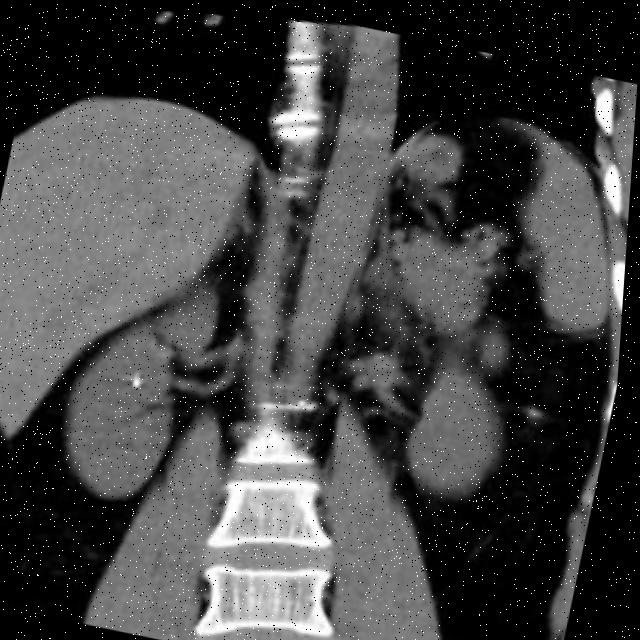Tas_Var: (131, 371, 149, 392)
